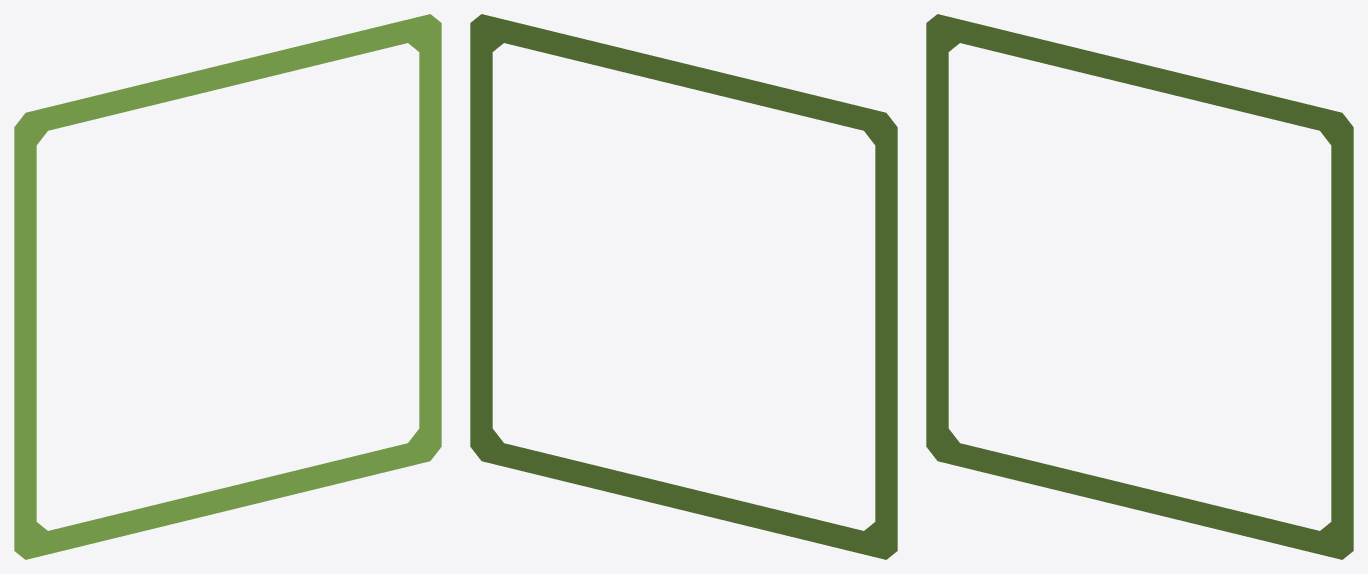
File: Marker.fbx
The picture shows the model from 3 angles, left to right: view 1: azimuth 30°, elevation 25°; view 2: azimuth 150°, elevation 25°; view 3: azimuth 330°, elevation 25°; orthographic projection.
Parts seen in each view (by area): view 1: Cube.001; view 2: Cube.001; view 3: Cube.001.
Boxes of the visible parts, bbox=[...] form: Cube.001: bbox=[14, 14, 441, 559]; Cube.001: bbox=[470, 14, 897, 559]; Cube.001: bbox=[926, 14, 1353, 559].
Size of the model in its own units: 0.9048 by 0.9048 by 1.47e-07.
